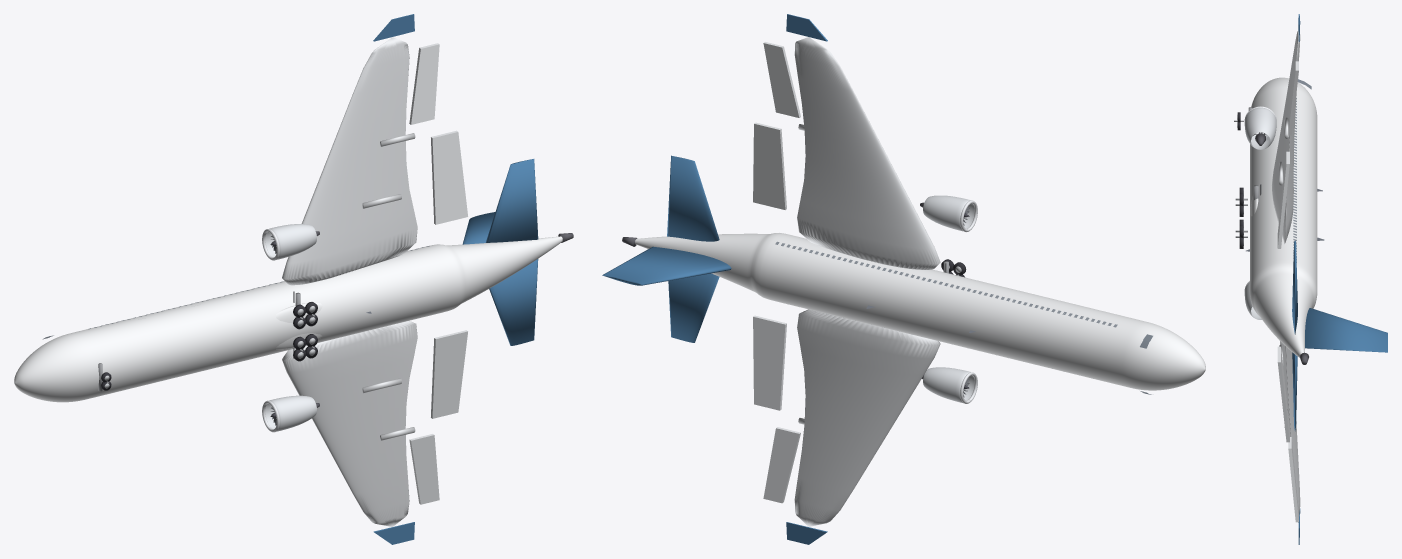
The picture shows the model from 3 angles, left to right: view 1: azimuth 30°, elevation 25°; view 2: azimuth 150°, elevation 25°; view 3: azimuth 270°, elevation 25°; orthographic projection.
Parts seen in each view (by area): view 1: Fuselage, Wing_R, Wing_L, HStab_R, Flap_R, HStab_L, Flap_L, Aileron_R, Aileron_L, Nacelle_1_0, Nacelle_-1_0, Fin; view 2: Fuselage, Wing_L, Wing_R, HStab_R, Fin, Flap_L, Flap_R, HStab_L, Aileron_L, Aileron_R, Nacelle_1_0, Nacelle_-1_0; view 3: Fuselage, Fin, Wing_R, Wing_L, Nacelle_1_0, Flap_R, Flap_L, HStab_R, Aileron_L, Aileron_R, HStab_L, Windows_1_70 (+1 smaller).
Part boxes in pixels (x1,y1,x2,y2): Fuselage: (14,236,562,402); Wing_R: (282,37,417,285); Wing_L: (282,321,417,526); HStab_R: (486,159,538,242); Flap_R: (431,130,467,224); HStab_L: (489,259,538,345); Flap_L: (431,330,467,418); Aileron_R: (409,43,439,124); Aileron_L: (409,434,439,504); Nacelle_1_0: (265,224,316,259); Nacelle_-1_0: (265,395,316,431); Fin: (462,212,495,244); Fuselage: (635,233,1205,390); Wing_L: (794,309,940,526); Wing_R: (794,37,940,269); HStab_R: (667,155,719,241); Fin: (602,246,731,285); Flap_L: (753,315,786,410); Flap_R: (753,122,786,209); HStab_L: (668,273,719,342); Aileron_L: (763,427,800,503); Aileron_R: (763,42,800,117); Nacelle_1_0: (923,195,974,231); Nacelle_-1_0: (923,367,974,403); Fuselage: (1250,77,1317,357); Fin: (1305,308,1387,352); Wing_R: (1271,31,1300,243); Wing_L: (1280,341,1300,515); Nacelle_1_0: (1244,107,1276,149); Flap_R: (1277,151,1289,248); Flap_L: (1277,346,1289,442); HStab_R: (1292,240,1297,334); Aileron_L: (1288,437,1298,522); Aileron_R: (1288,61,1298,135); HStab_L: (1292,352,1297,431); Windows_1_70: (1293,98,1296,262).
Size of the model in its own units: 54.5 by 47.99 by 12.87.
